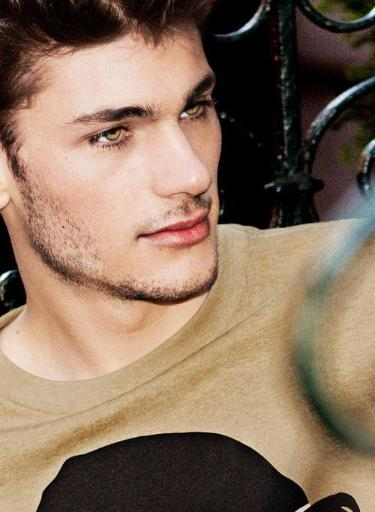left_eye: (176, 101, 212, 124)
right_eye: (83, 120, 139, 149)
right_lip_corner: (135, 227, 152, 248)
